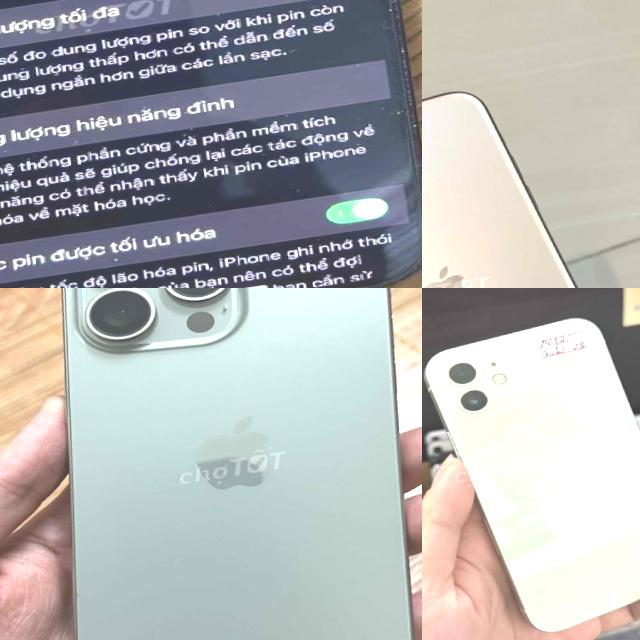screen_defect: (313, 0, 422, 269)
